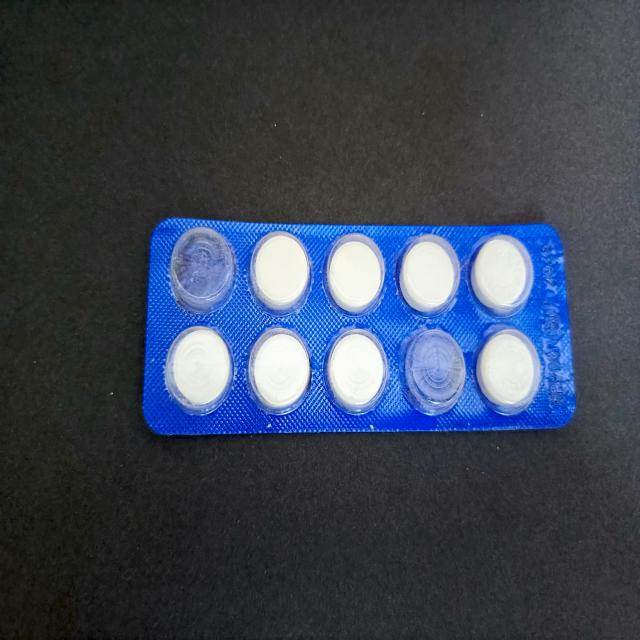defect: (157, 219, 240, 316), (401, 317, 469, 418)
